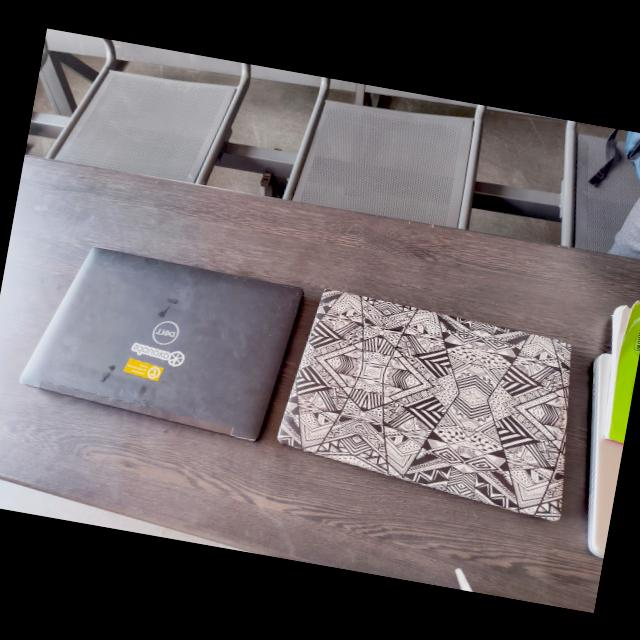laptop: (280, 276, 592, 526), (12, 230, 304, 440)
